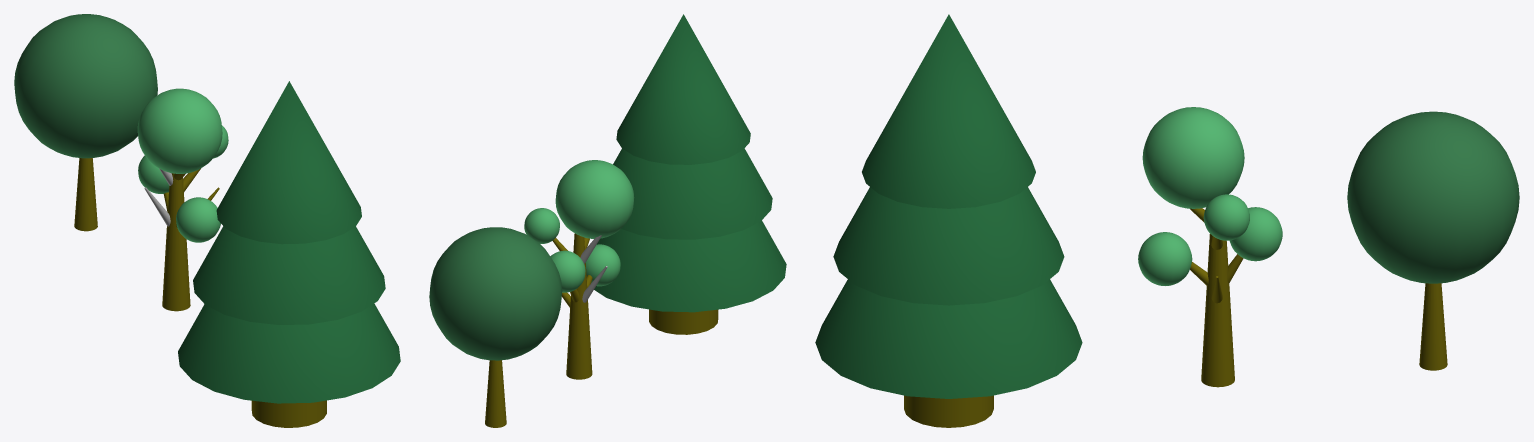
Rendered from Trees 1.fbx.
3 views of the same model, side by side, from view 1: azimuth 30°, elevation 25°; view 2: azimuth 150°, elevation 25°; view 3: azimuth 270°, elevation 25° (orthographic). The views are drawn at different scales.
Visible parts, largest first — view 1: pCone1, pSphere5, pCone2, pCone3, pSphere3, pCylinder2, pCylinder1, pSphere2, pCylinder10, pSphere1; view 2: pSphere5, pCone1, pCone3, pCone2, pSphere3, pCylinder2, pCylinder1, pCylinder10, pSphere2, pSphere4, pSphere1; view 3: pSphere5, pCone1, pCone2, pCone3, pSphere3, pCylinder2, pCylinder1, pSphere2, pCylinder10, pSphere1, pSphere4.
Boxes of the visible parts, x1,y1,x2,y2 form: pCone1: (178, 303, 400, 403); pSphere5: (14, 14, 157, 158); pCone2: (193, 226, 385, 324); pCone3: (216, 81, 361, 244); pSphere3: (137, 88, 222, 173); pCylinder2: (162, 173, 190, 311); pCylinder1: (251, 400, 326, 427); pSphere2: (176, 197, 220, 242); pCylinder10: (74, 158, 97, 231); pSphere1: (138, 155, 169, 193); pSphere5: (429, 227, 562, 360); pCone1: (594, 220, 786, 312); pCone3: (616, 14, 750, 164); pCone2: (613, 148, 772, 239); pSphere3: (555, 160, 634, 238); pCylinder2: (566, 233, 592, 379); pCylinder1: (649, 309, 718, 334); pCylinder10: (485, 360, 506, 427); pSphere2: (585, 244, 620, 286); pSphere4: (524, 208, 559, 243); pSphere1: (550, 250, 585, 292); pSphere5: (1347, 111, 1519, 283); pCone1: (815, 279, 1082, 398); pCone2: (833, 187, 1064, 305); pCone3: (862, 14, 1035, 208); pSphere3: (1142, 107, 1244, 208); pCylinder2: (1201, 234, 1234, 387); pCylinder1: (904, 395, 993, 427); pSphere2: (1138, 232, 1192, 285); pCylinder10: (1419, 283, 1447, 370); pSphere1: (1229, 207, 1282, 261); pSphere4: (1203, 194, 1249, 240).
Size of the model in its own units: 3.1 by 5.06 by 8.17.
